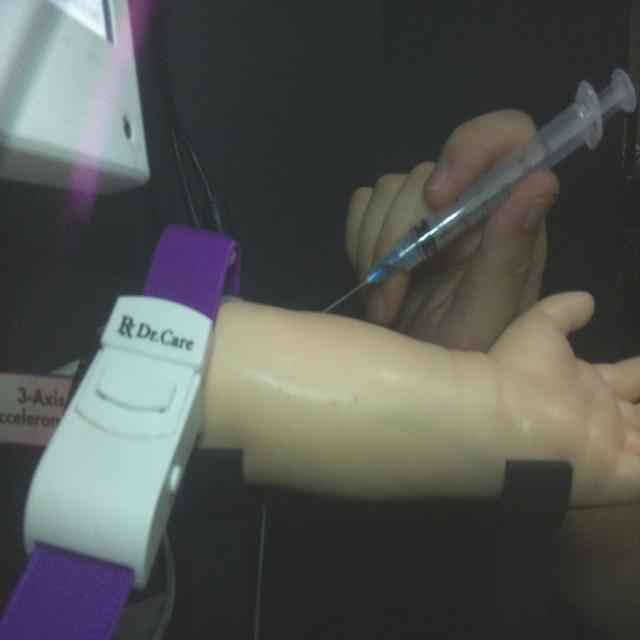23 degrees: (320, 64, 636, 316)
